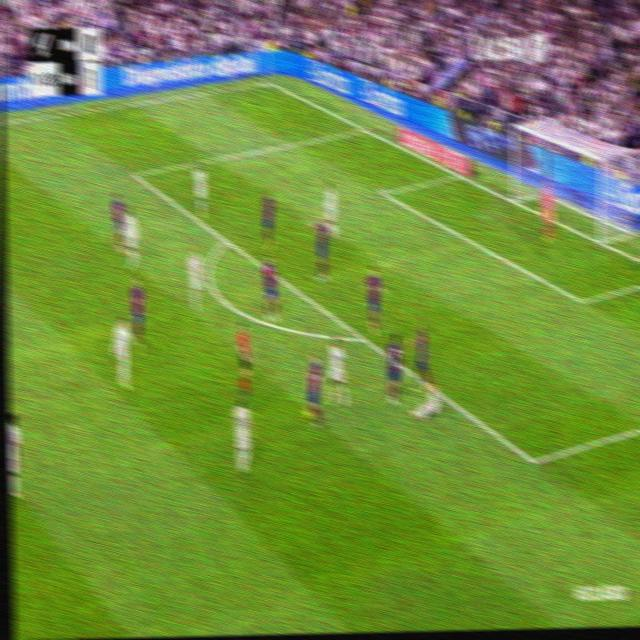bigarea_bottom_inner: (525, 443, 541, 477)
bigarea_top_inner: (127, 162, 141, 184)
bigarea_top_outter: (356, 120, 369, 135)
corner: (260, 74, 276, 87)
smallarea_bottom_inner: (575, 289, 589, 312)
smallarea_top_inner: (376, 183, 390, 203)
top_arc_area_intersection: (220, 229, 233, 250)
